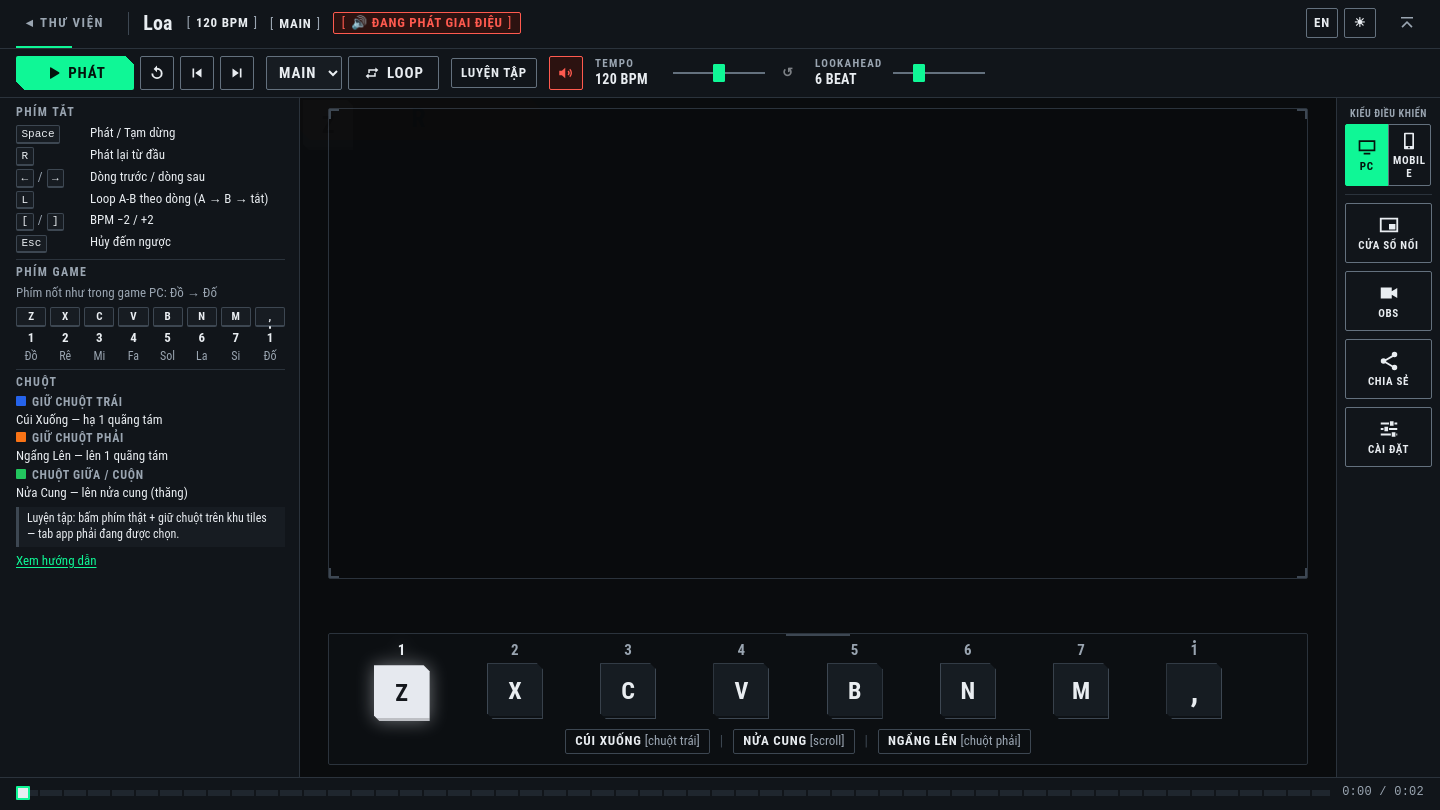
Test: màn chơi — nút loa (giai điệu mẫu) › đang bật → bấm = tắt ngay, không hỏi, huy hiệu biến mất
Expected: the text "🔊 Đang phát giai điệu" is shown, x1=351 y1=14 x2=503 y2=32
Press the mouse on the button named "Tiếng giai điệu" at (566,73), box x1=549 y1=56 x2=583 y2=90
Press the mouse on the button named "Tiếng giai điệu" at (566,73), box x1=549 y1=56 x2=583 y2=90
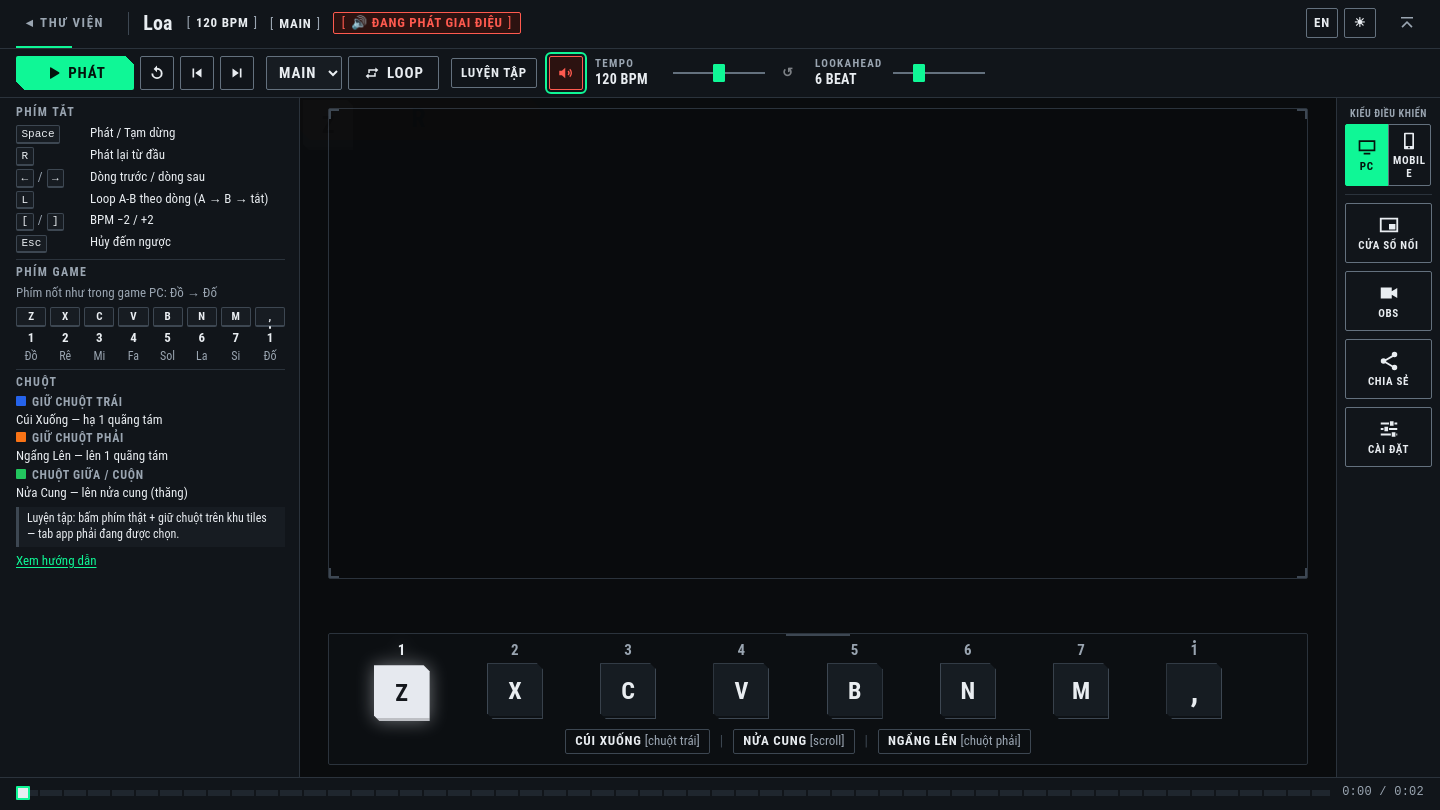
Click the button named "Tiếng giai điệu" at (566,73), box x1=549 y1=56 x2=583 y2=90
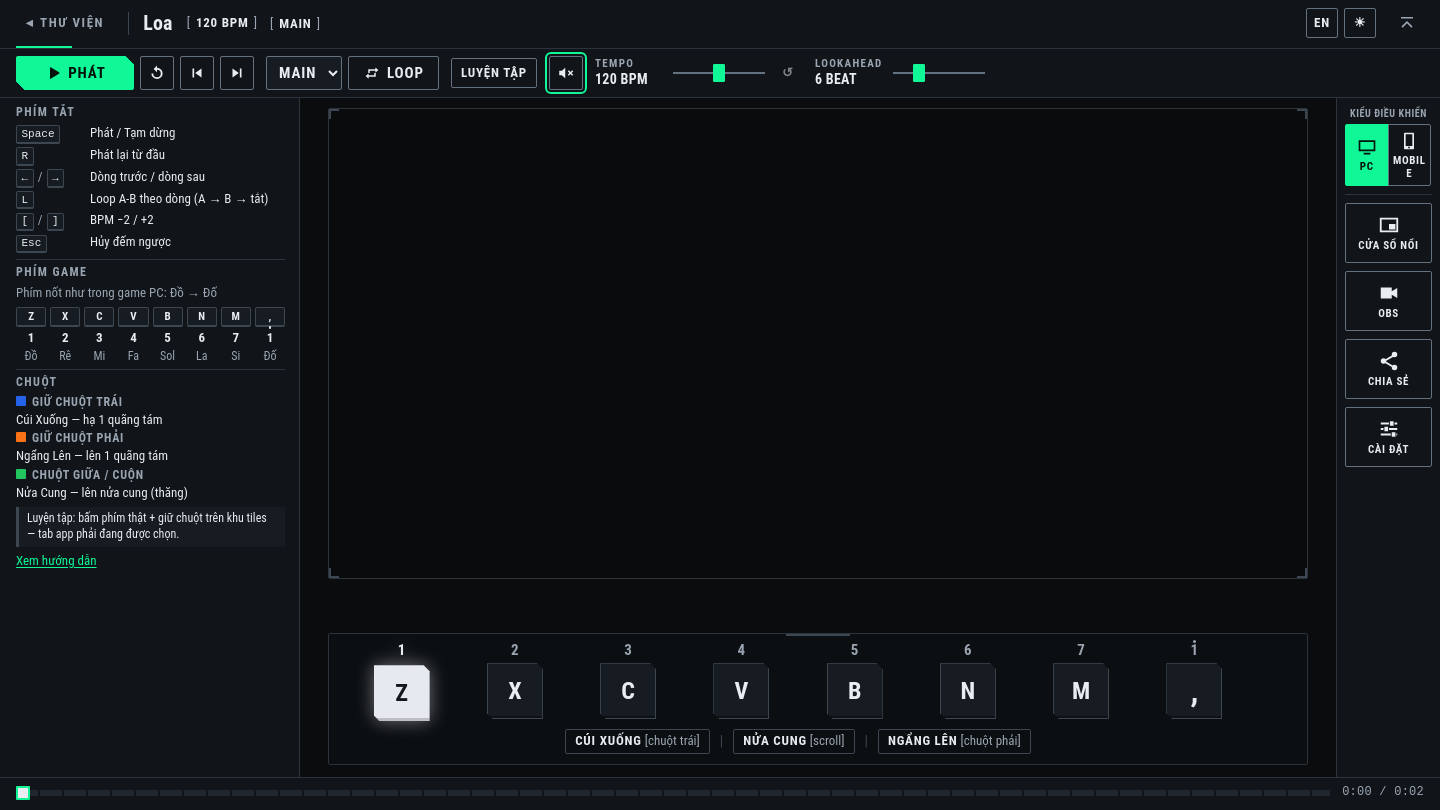
Result: the text "🔊 Đang phát giai điệu" is gone
